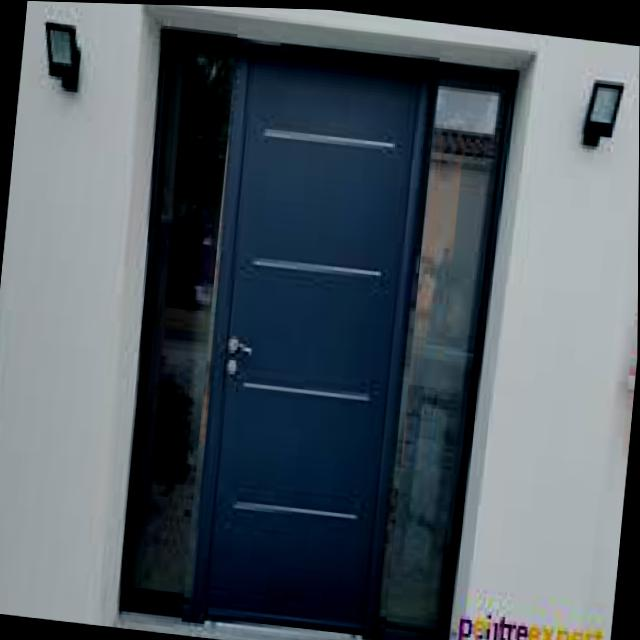close: (180, 20, 442, 639)
